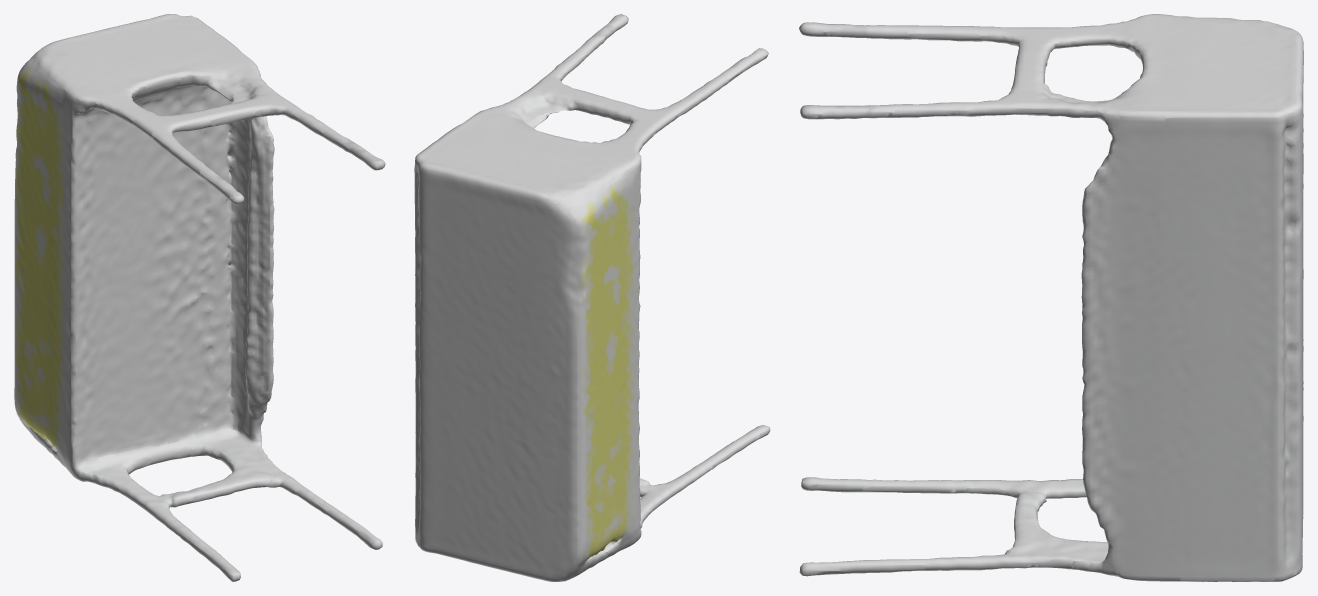
The model's file is A double-leveled computer table with a metallic fr.glb.
The picture shows the model from 3 angles, left to right: view 1: azimuth 30°, elevation 25°; view 2: azimuth 150°, elevation 25°; view 3: azimuth 270°, elevation 25°; orthographic projection. The views are drawn at different scales.
Parts seen in each view (by area): view 1: A double-leveled computer table with a metallic fr; view 2: A double-leveled computer table with a metallic fr; view 3: A double-leveled computer table with a metallic fr.
Boxes of the visible parts, bbox=[...] form: A double-leveled computer table with a metallic fr: bbox=[14, 14, 385, 581]; A double-leveled computer table with a metallic fr: bbox=[414, 14, 770, 581]; A double-leveled computer table with a metallic fr: bbox=[799, 14, 1303, 581].
Bounding box in the file's own units: 0.4483 × 0.9398 × 0.9142.
